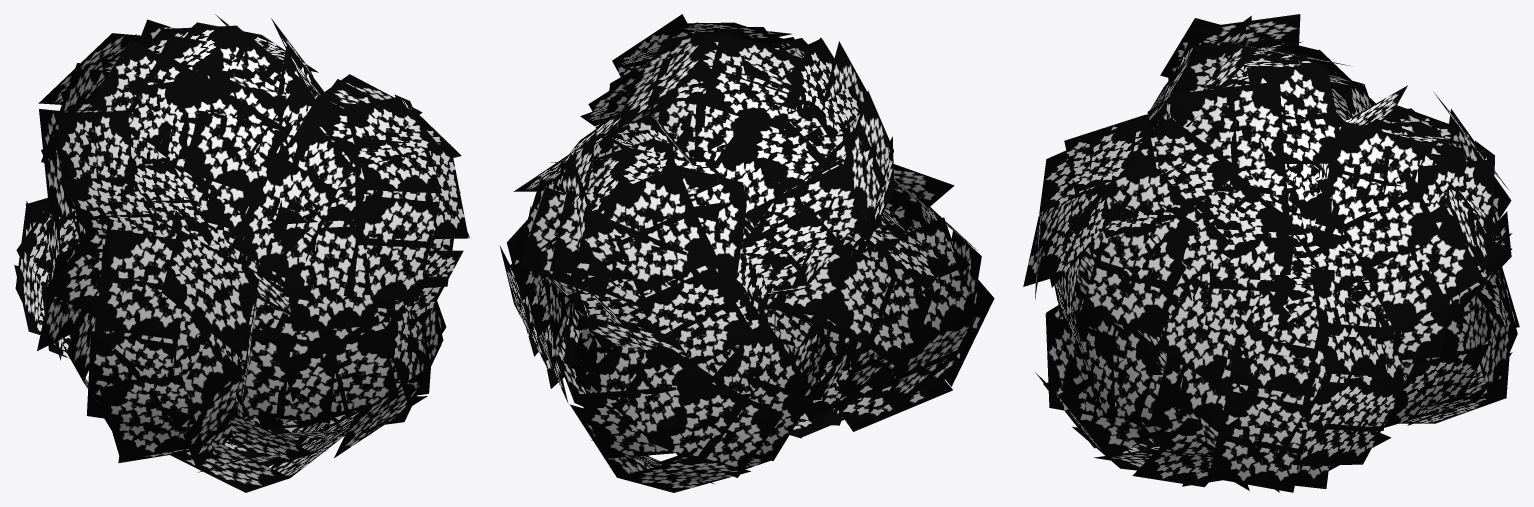
File: envTree_04_Leaves.fbx
3 renders of one model, left to right at view 1: azimuth 30°, elevation 25°; view 2: azimuth 150°, elevation 25°; view 3: azimuth 270°, elevation 25°, orthographic. The views are drawn at different scales.
Parts seen in each view (by area): view 1: envTree_04_Leaves; view 2: envTree_04_Leaves; view 3: envTree_04_Leaves.
Part boxes in pixels (x1,y1,x2,y2): envTree_04_Leaves: (14,14,470,492); envTree_04_Leaves: (499,14,994,492); envTree_04_Leaves: (1023,14,1519,492).
Bounding box in the file's own units: 184 × 191 × 198.
1 material, 1 textured.
